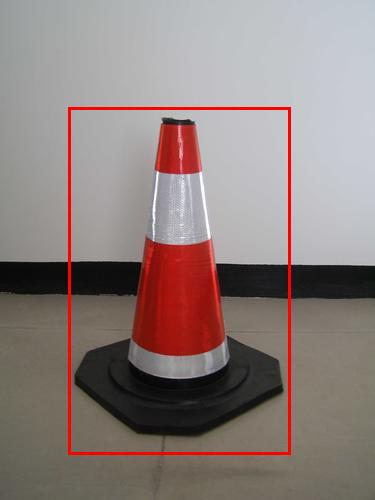traffic_cone: (72, 106, 298, 453)
